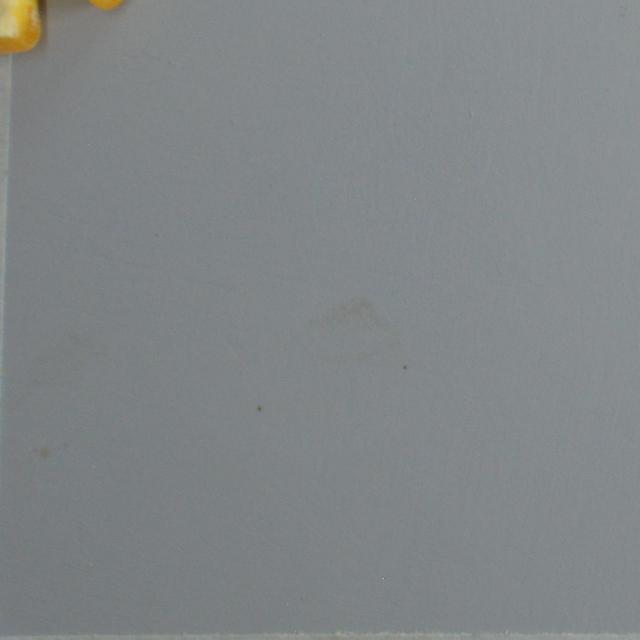dañado: (0, 0, 46, 58)
